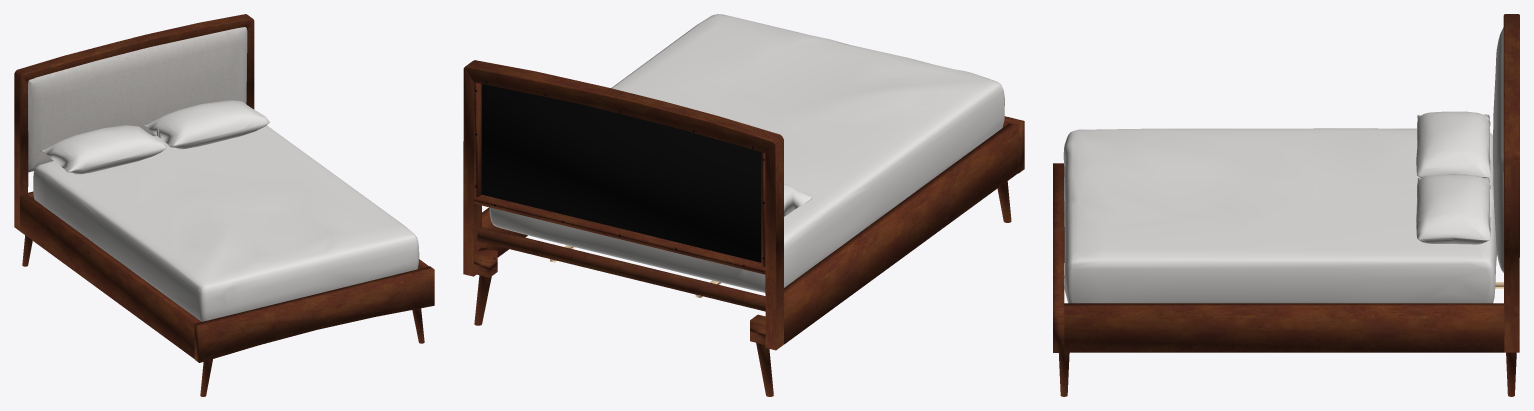
File: abo-B075X2LMTC.glb
The picture shows the model from 3 angles, left to right: view 1: azimuth 30°, elevation 25°; view 2: azimuth 150°, elevation 25°; view 3: azimuth 270°, elevation 25°; orthographic projection. The views are drawn at different scales.
Parts seen in each view (by area): view 1: RootNode; view 2: RootNode; view 3: RootNode.
Boxes of the visible parts, left/top/right/bottom form: RootNode: left=14, top=14, right=434, bottom=396; RootNode: left=463, top=14, right=1024, bottom=396; RootNode: left=1053, top=14, right=1519, bottom=396.
Size of the model in its own units: 1.59 by 1.28 by 2.17.
1 material, 1 textured.
